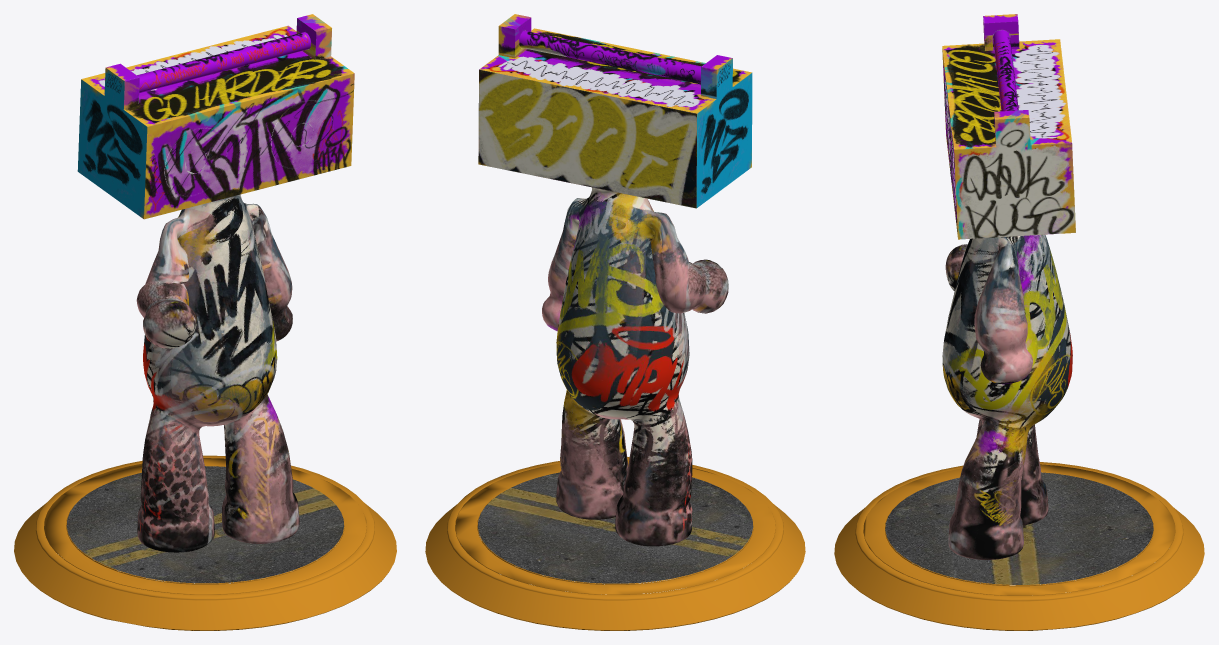
3 views of the same model, side by side, from view 1: azimuth 30°, elevation 25°; view 2: azimuth 150°, elevation 25°; view 3: azimuth 270°, elevation 25° (orthographic). The views are drawn at different scales.
Visible parts, largest first — view 1: BBody; view 2: BBody; view 3: BBody.
Part boxes in pixels (x1,y1,x2,y2): BBody: [14, 14, 396, 630]; BBody: [425, 14, 805, 630]; BBody: [834, 14, 1204, 630].
Bounding box in the file's own units: 1.45 × 2.12 × 1.45.
Materials: 4 (3 with a texture image).
